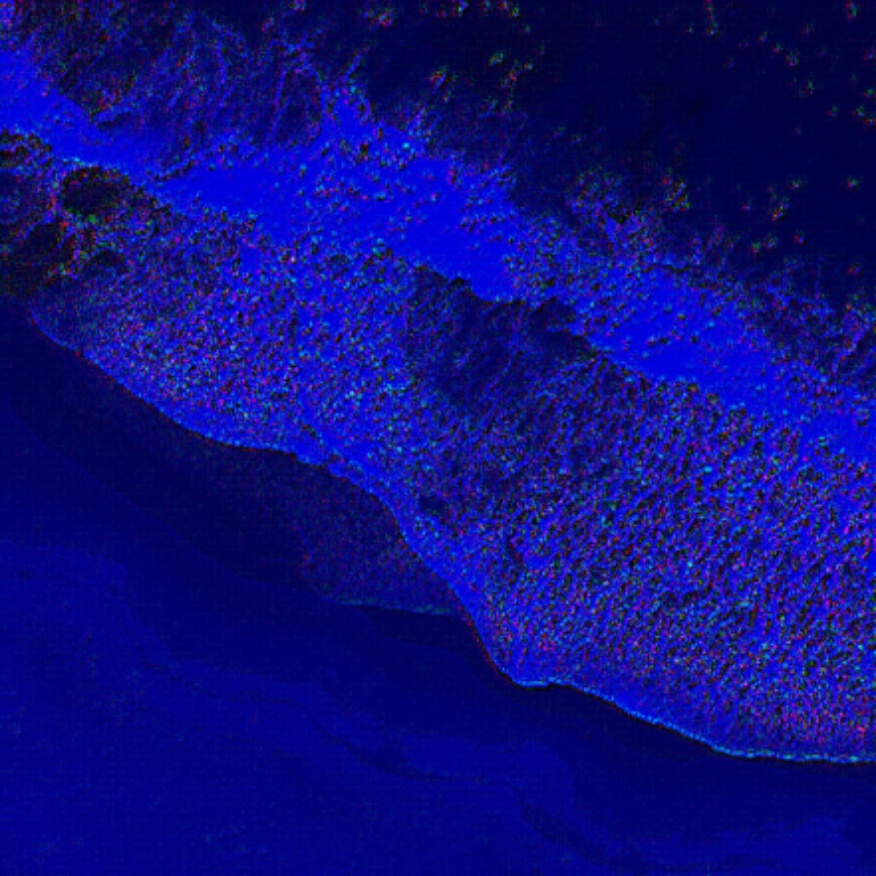rip_current: (407, 85, 626, 506)
